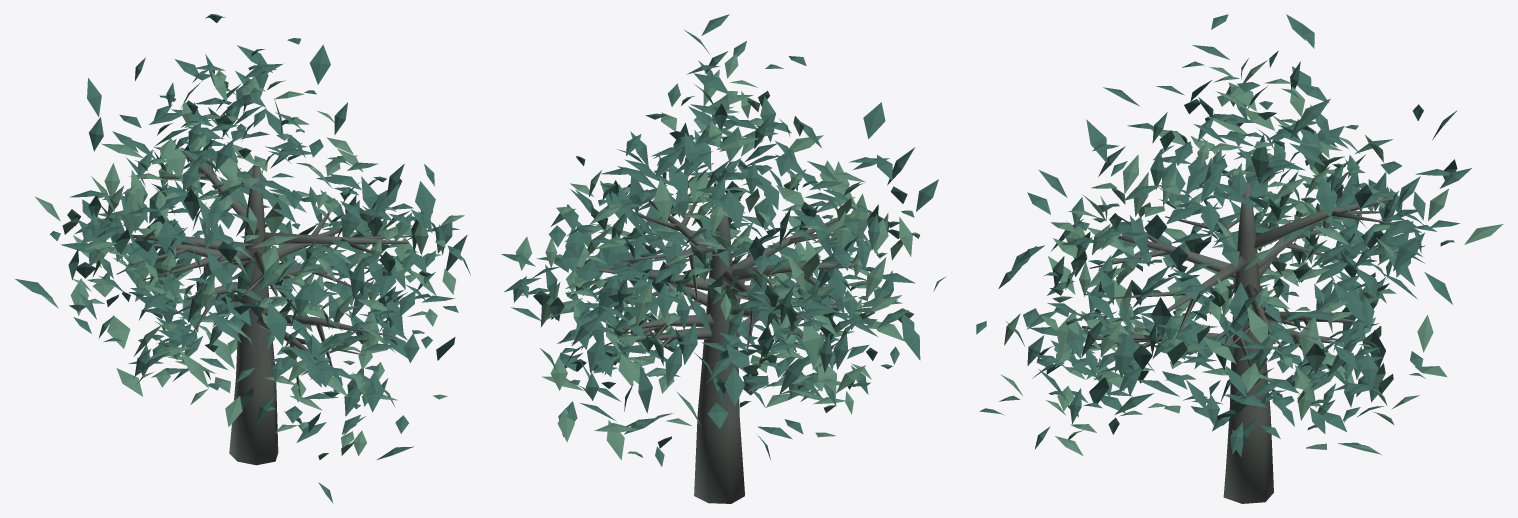
Rendered from willow_lod.glb.
3 renders of one model, left to right at view 1: azimuth 30°, elevation 25°; view 2: azimuth 150°, elevation 25°; view 3: azimuth 270°, elevation 25°, orthographic. The views are drawn at different scales.
Visible parts, largest first — view 1: Moonwater willow leaves, Moonwater willow branches; view 2: Moonwater willow leaves, Moonwater willow branches; view 3: Moonwater willow leaves, Moonwater willow branches.
Boxes of the visible parts, left/top/right/bottom form: Moonwater willow leaves: left=15, top=14, right=470, bottom=503; Moonwater willow branches: left=116, top=139, right=411, bottom=465; Moonwater willow leaves: left=501, top=14, right=946, bottom=466; Moonwater willow branches: left=576, top=193, right=864, bottom=503; Moonwater willow leaves: left=976, top=14, right=1503, bottom=456; Moonwater willow branches: left=1081, top=182, right=1395, bottom=503.
Size of the model in its own units: 5.85 by 6.66 by 6.82.
